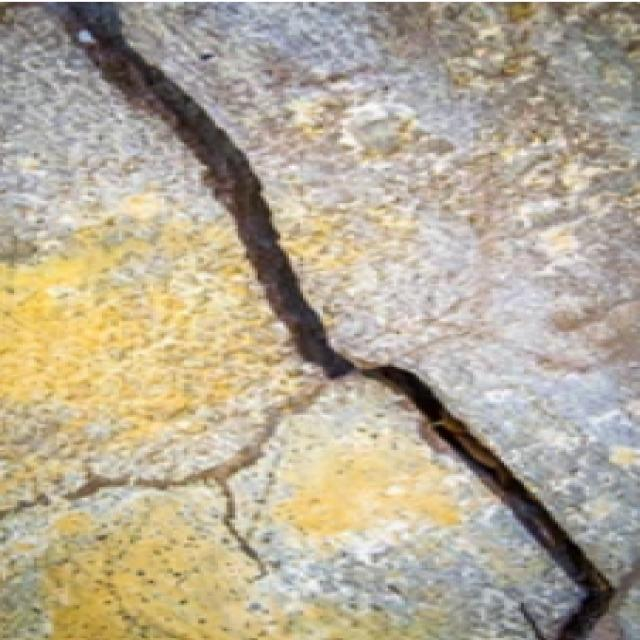branched cracks: (41, 3, 639, 639)
